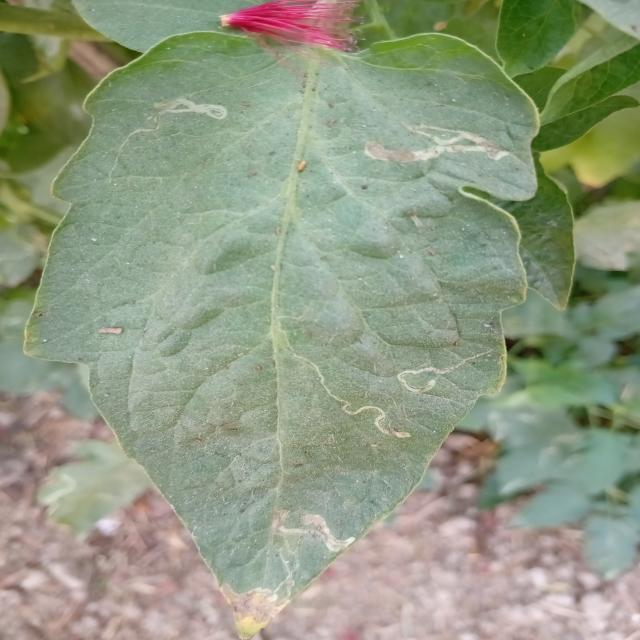Tuta absoluta: (289, 343, 412, 455), (364, 128, 509, 174), (396, 351, 496, 398), (278, 503, 358, 558), (164, 96, 228, 120)
